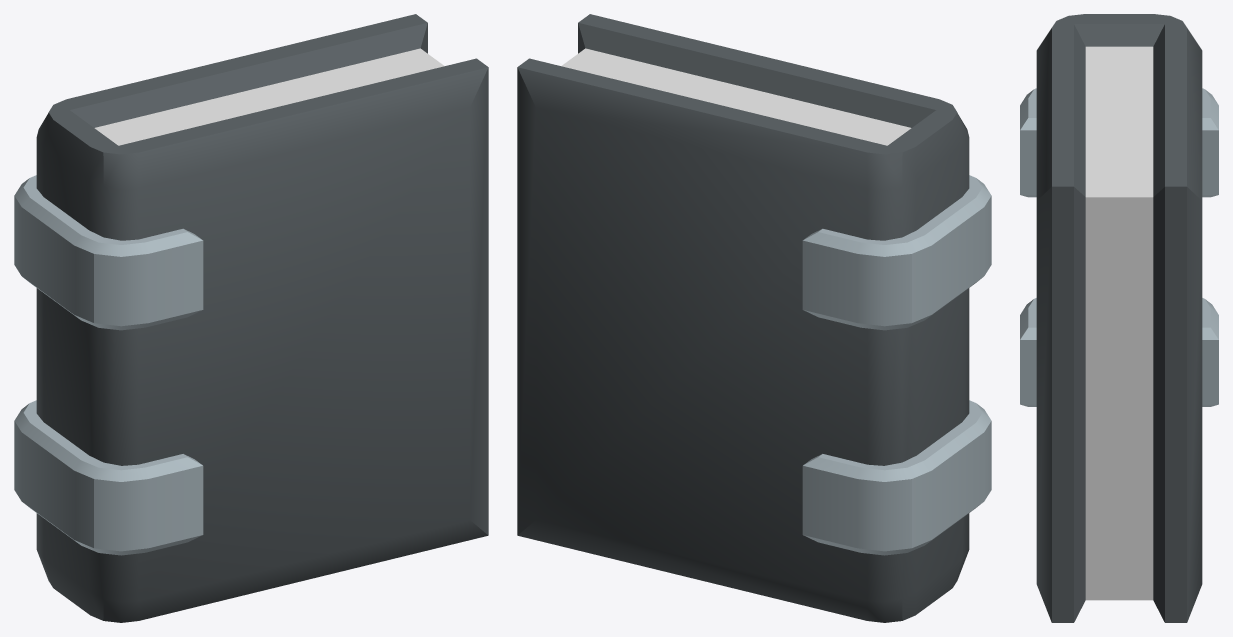
Rendered from bookA.dae.
3 views of the same model, side by side, from view 1: azimuth 30°, elevation 25°; view 2: azimuth 150°, elevation 25°; view 3: azimuth 270°, elevation 25° (orthographic). The views are drawn at different scales.
Parts seen in each view (by area): view 1: bookA; view 2: bookA; view 3: bookA.
Boxes of the visible parts, left/top/right/bottom form: bookA: left=14, top=14, right=488, bottom=622; bookA: left=517, top=14, right=991, bottom=622; bookA: left=1020, top=14, right=1218, bottom=622.
Bounding box in the file's own units: 0.3758 × 0.172 × 0.4161.
